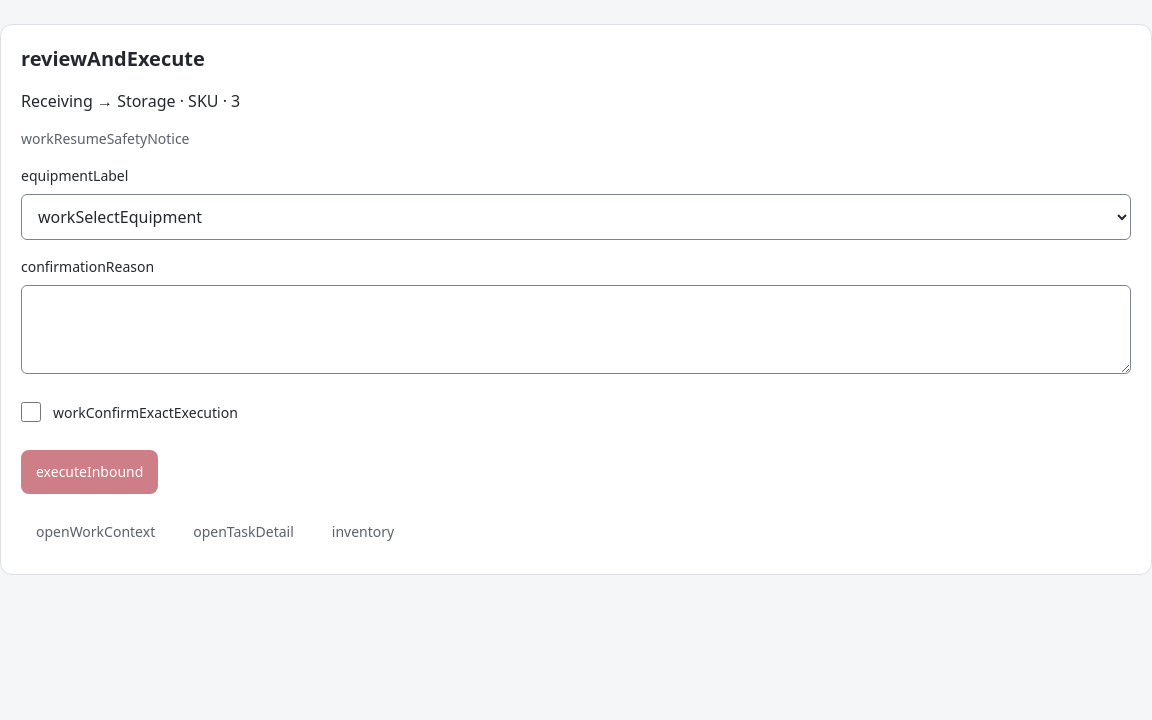
Scenario: requires selection/reason/confirmation, preserves strict payload and prevents blind resend after failed response
This screenshot has width=1152, height=720.
expect the button is disabled: met, box [21, 450, 158, 494]
Select "EQ" in the dropdown: (576, 217) [21, 194, 1131, 240]
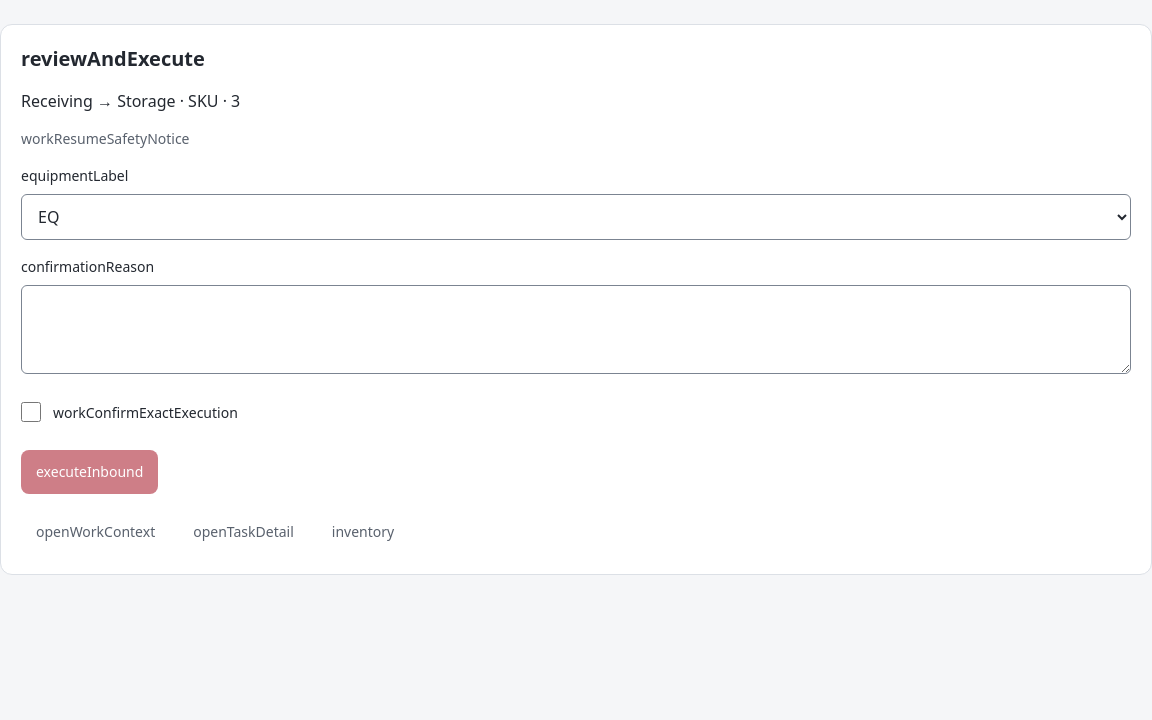
In the text box: (576, 330) [21, 285, 1131, 374], type "Reviewed movement risk"
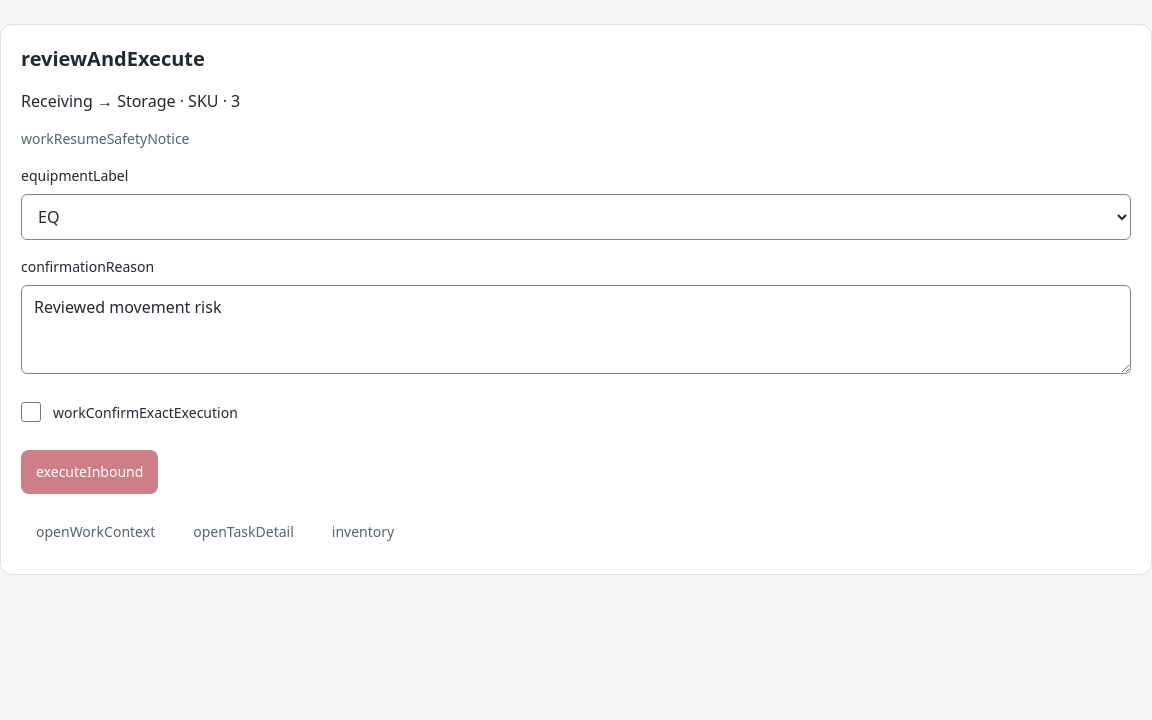
Click the checkbox: (31, 412) [21, 402, 41, 422]
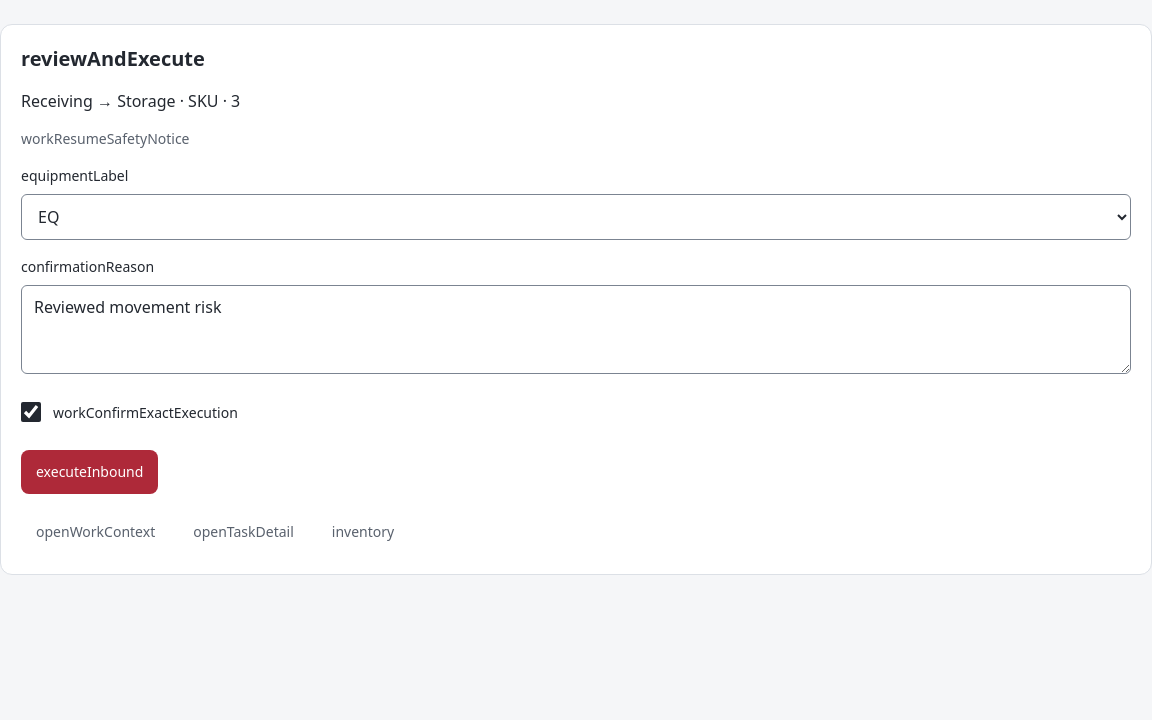
Click the button: (90, 472) [21, 450, 158, 494]
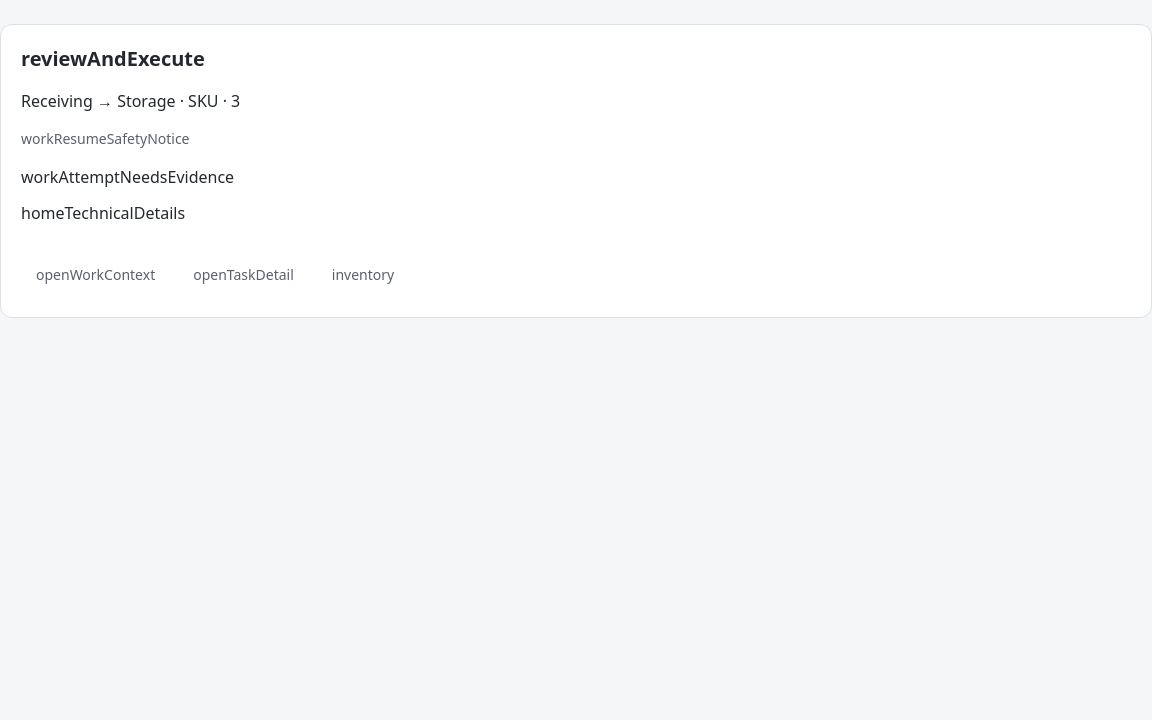
expect the message "workAttemptNeedsEvidence homeTechnicalDetails" is shown: met, box [21, 166, 234, 224]
expect the button "executeInbound" is gone: met
